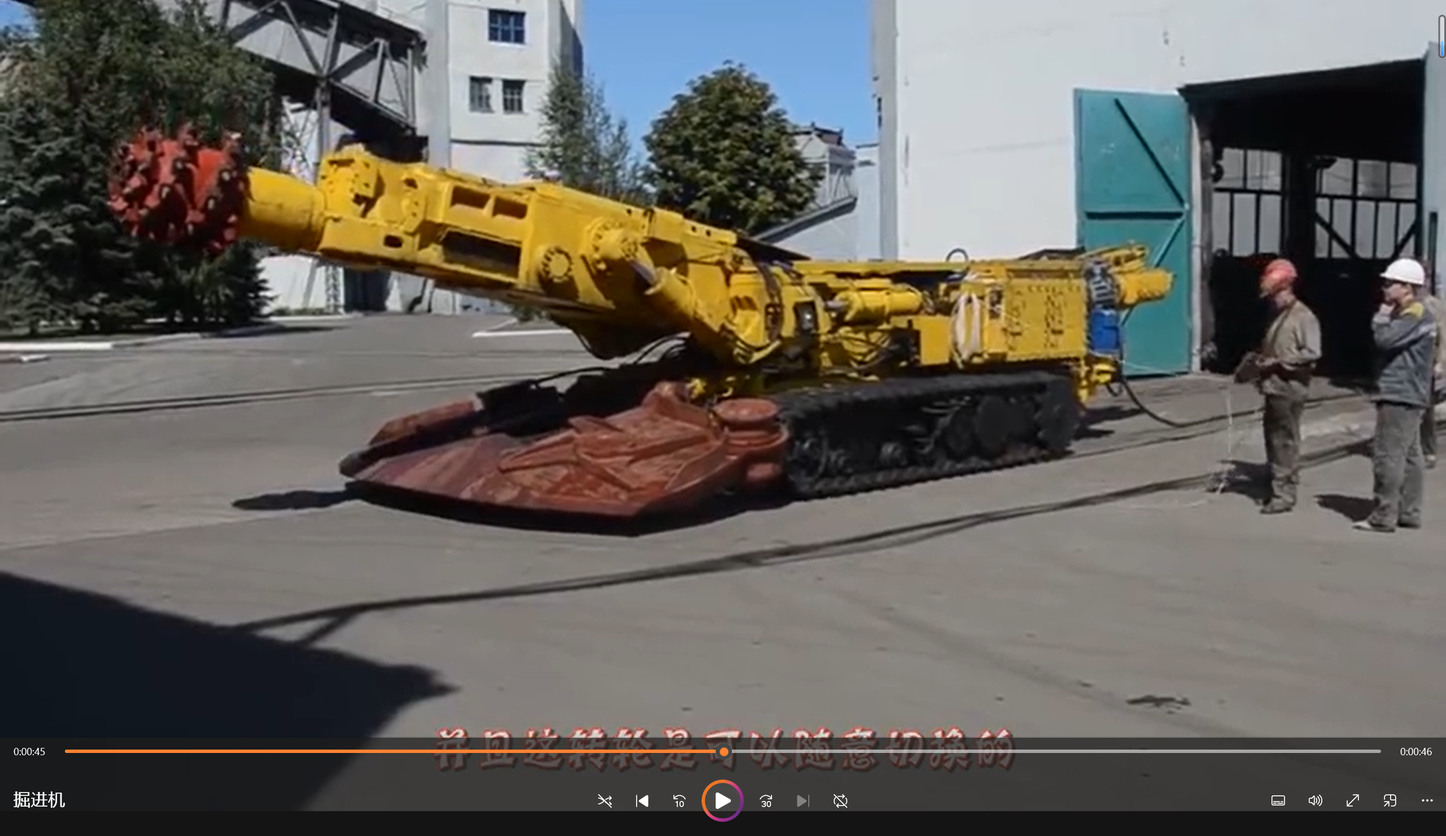device: (1353, 259, 1434, 533), (1258, 256, 1320, 510)
person: (106, 121, 1169, 518)
